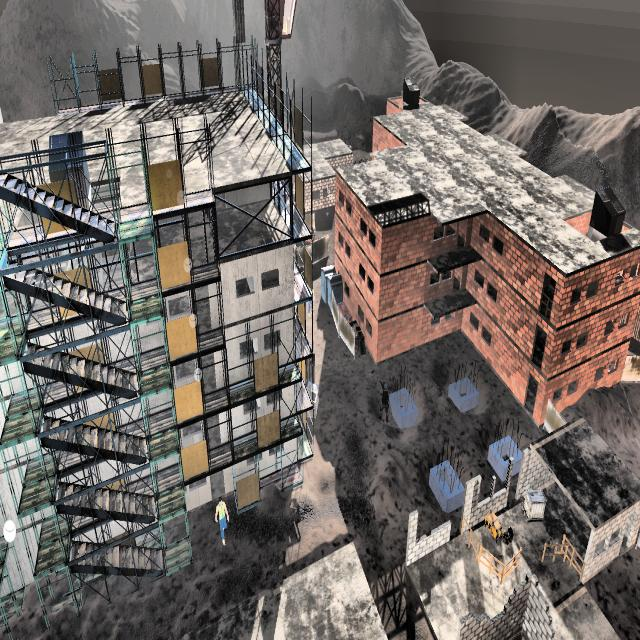bad: (378, 373, 393, 426)
good: (212, 493, 232, 553), (309, 281, 317, 323)
